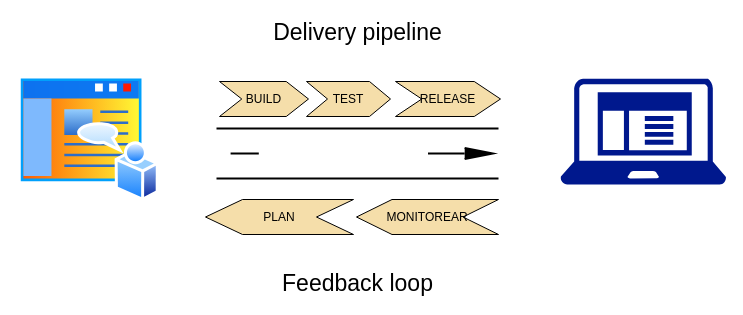
Image size: 743x315. Some labels were removed from this diagram. Each missing label, with the centre of its shape:
Clientes / Usuarios: (x=643, y=131)
SEGURIDAD: (x=357, y=153)
Sistemas de la compania: (x=88, y=138)
